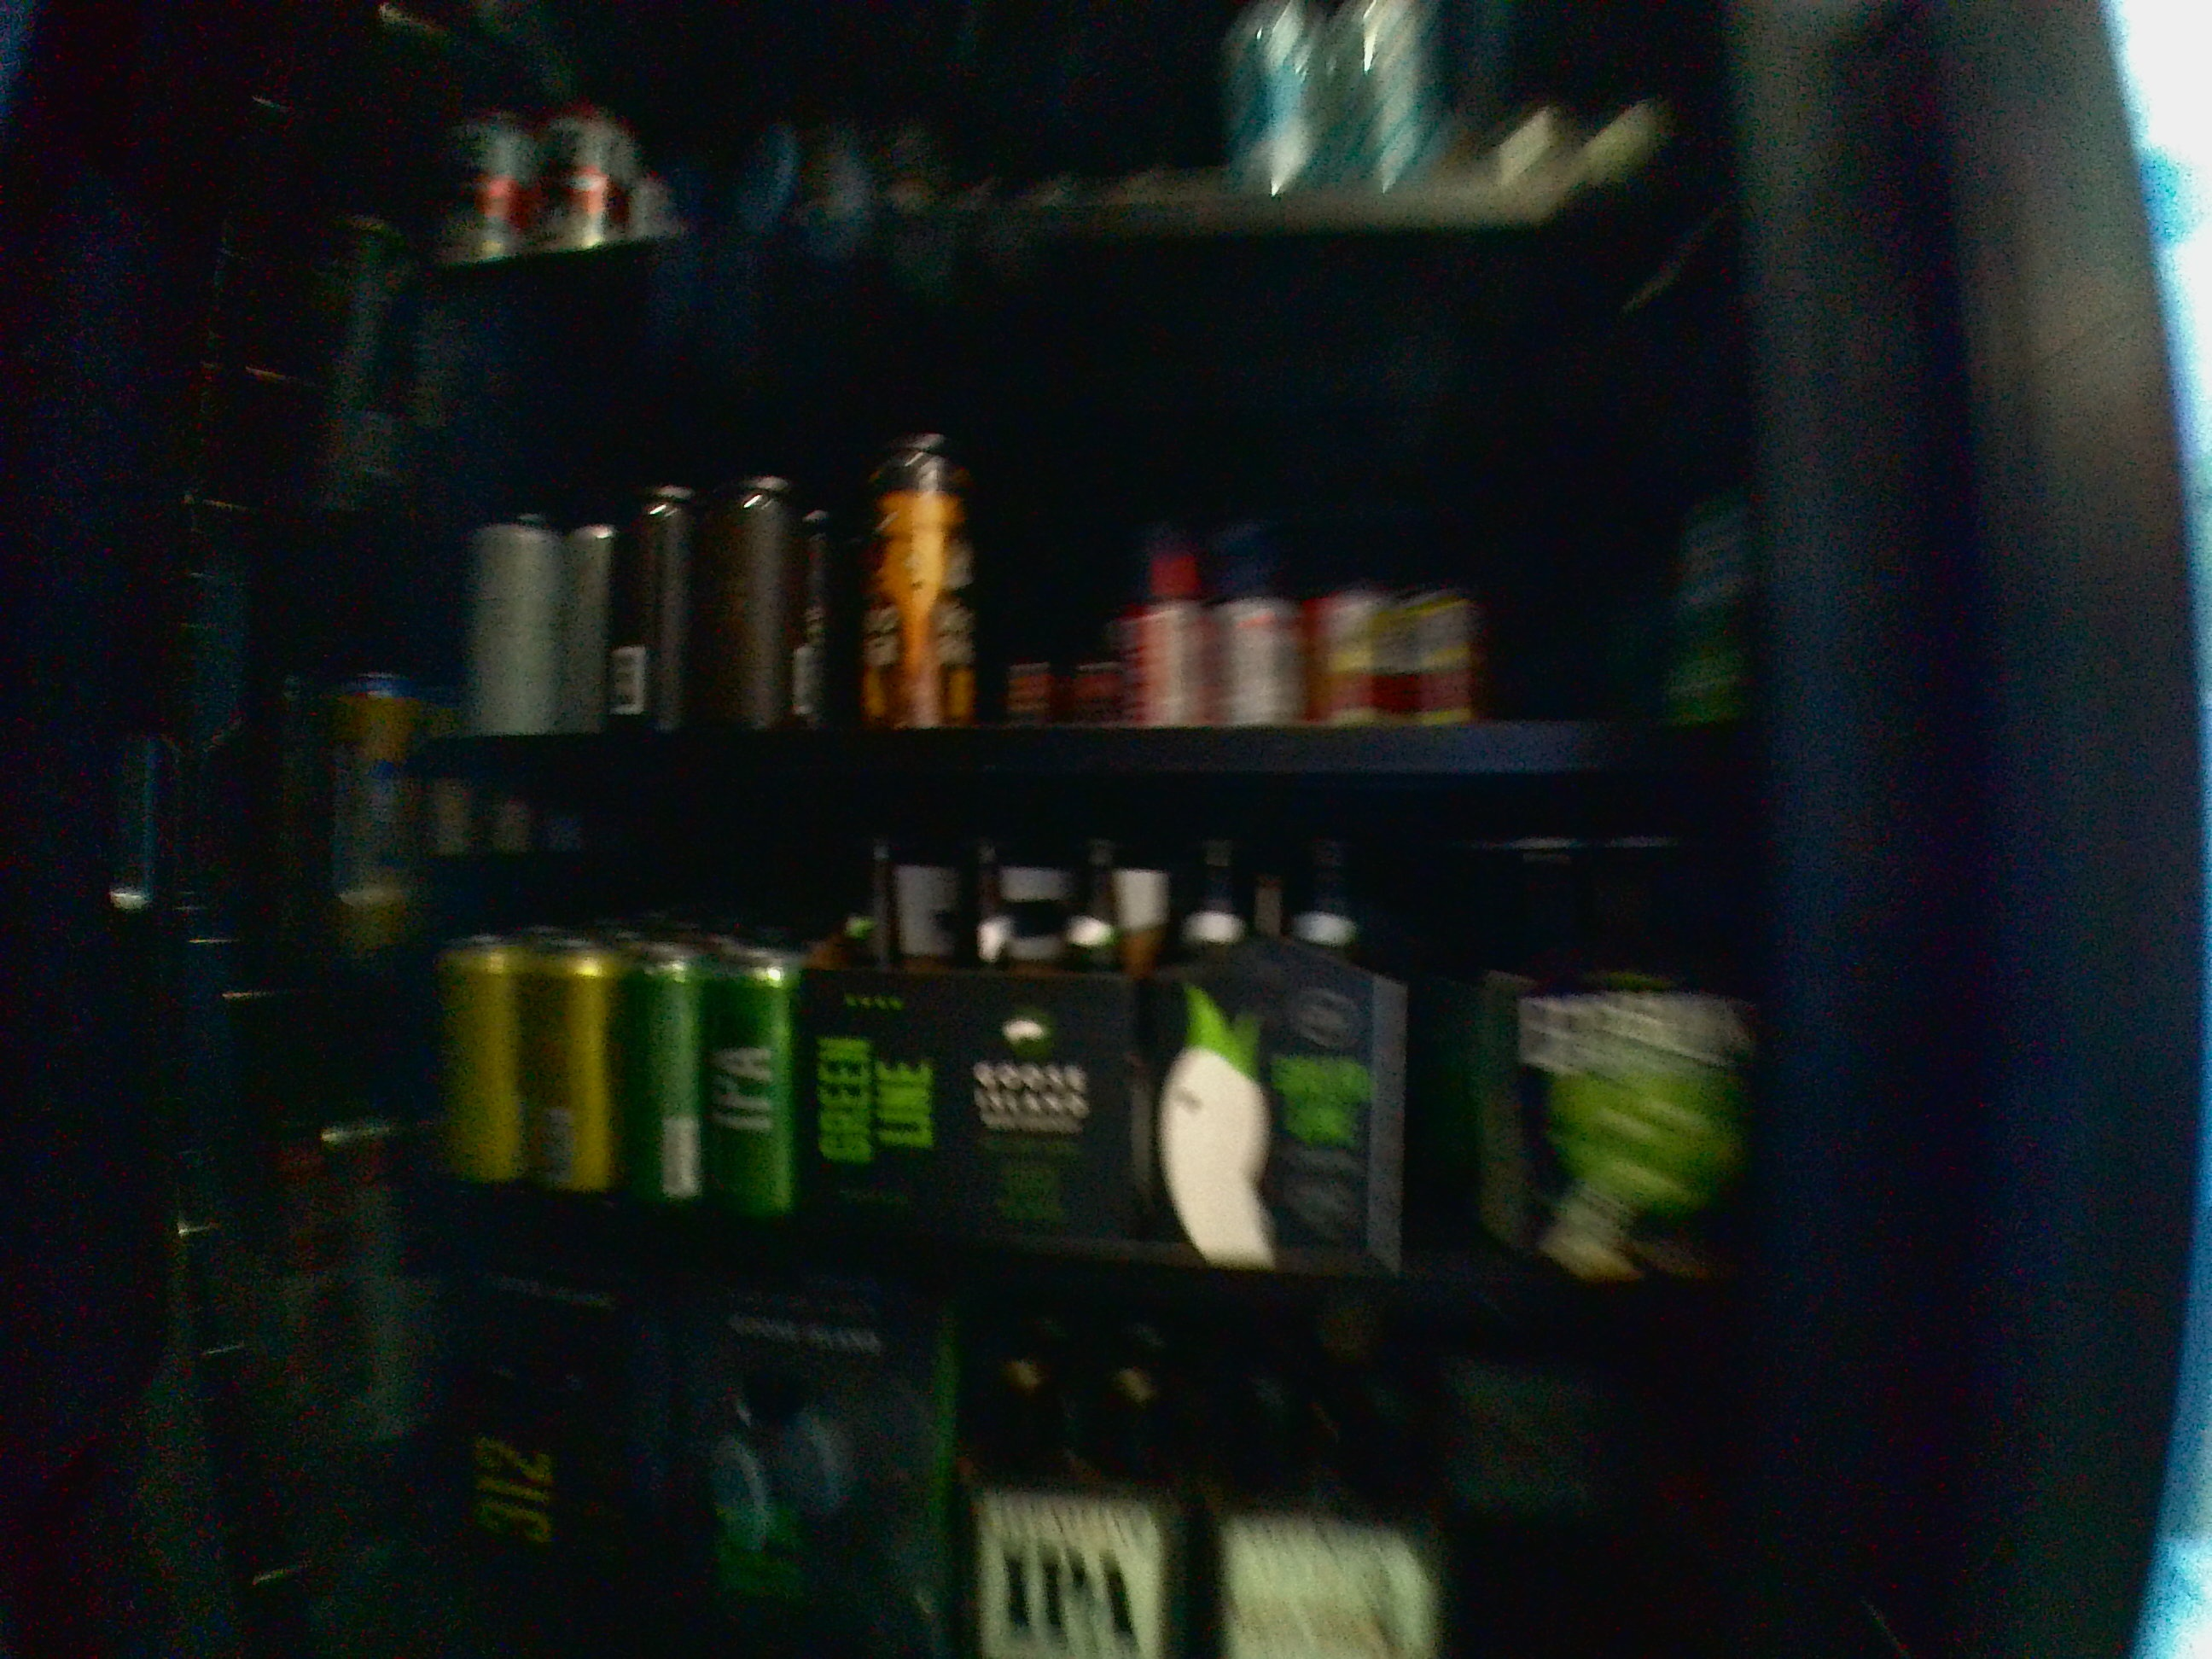shelf: (416, 765, 1766, 1328), (421, 270, 1752, 756)
